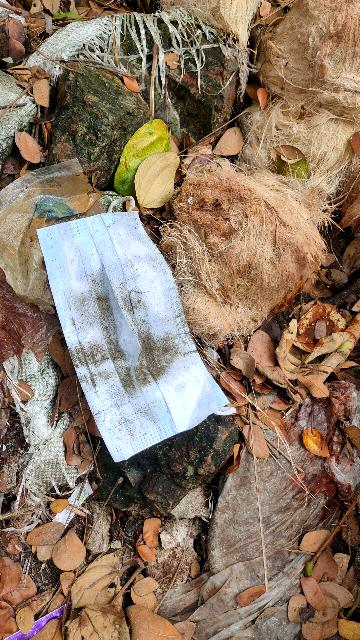mask: (19, 179, 259, 456)
